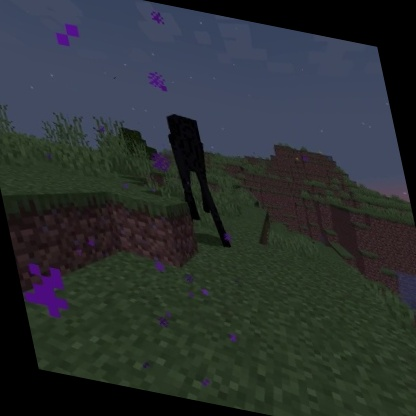enderman: (159, 110, 235, 251)
